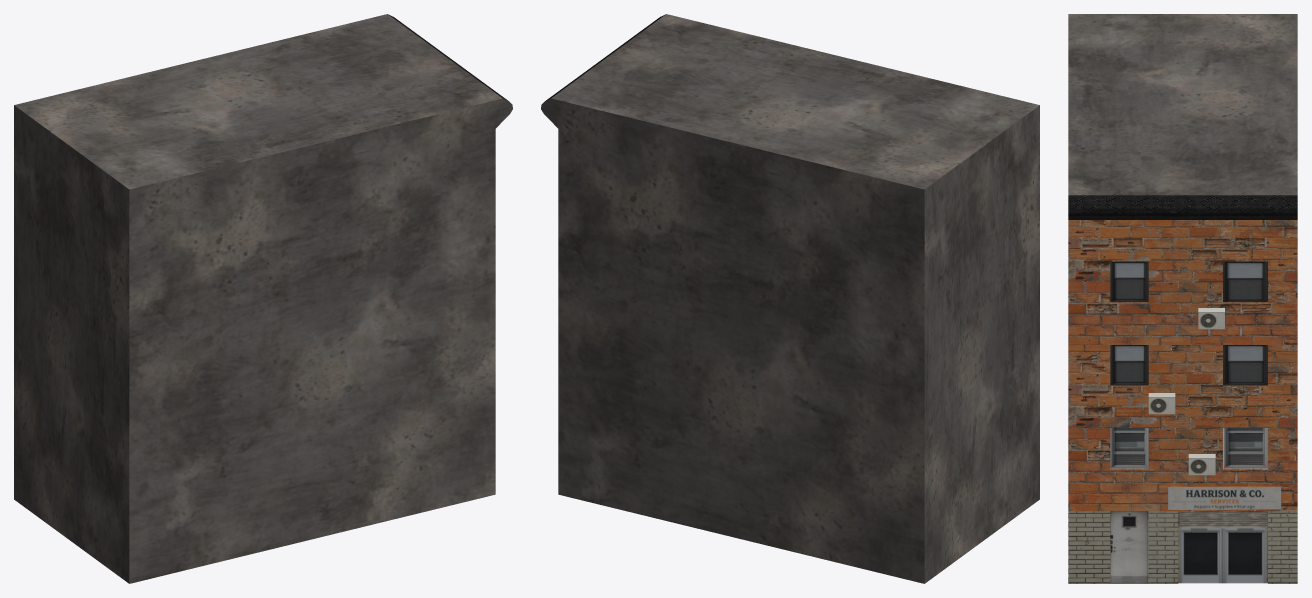
The model's file is lowpoly_apartment.glb.
The picture shows the model from 3 angles, left to right: view 1: azimuth 30°, elevation 25°; view 2: azimuth 150°, elevation 25°; view 3: azimuth 270°, elevation 25°; orthographic projection.
Parts seen in each view (by area): view 1: Apartment; view 2: Apartment; view 3: Apartment.
Part boxes in pixels (left/top/right/bottom): Apartment: left=14, top=14, right=512, bottom=583; Apartment: left=541, top=14, right=1039, bottom=583; Apartment: left=1068, top=14, right=1297, bottom=583.
Bounding box in the file's own units: 23.03 × 22.63 × 12.
Materials: 2 (2 with a texture image).
